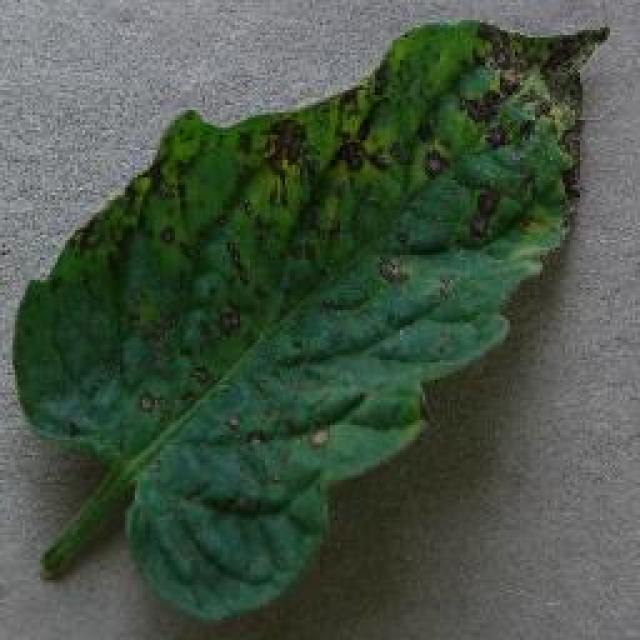Tomato___Early_blight: (6, 16, 623, 628)
